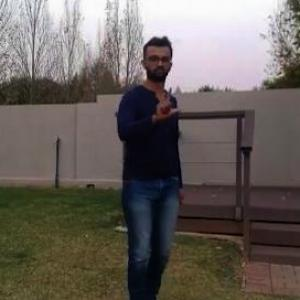land_hand: (151, 86, 181, 120)
